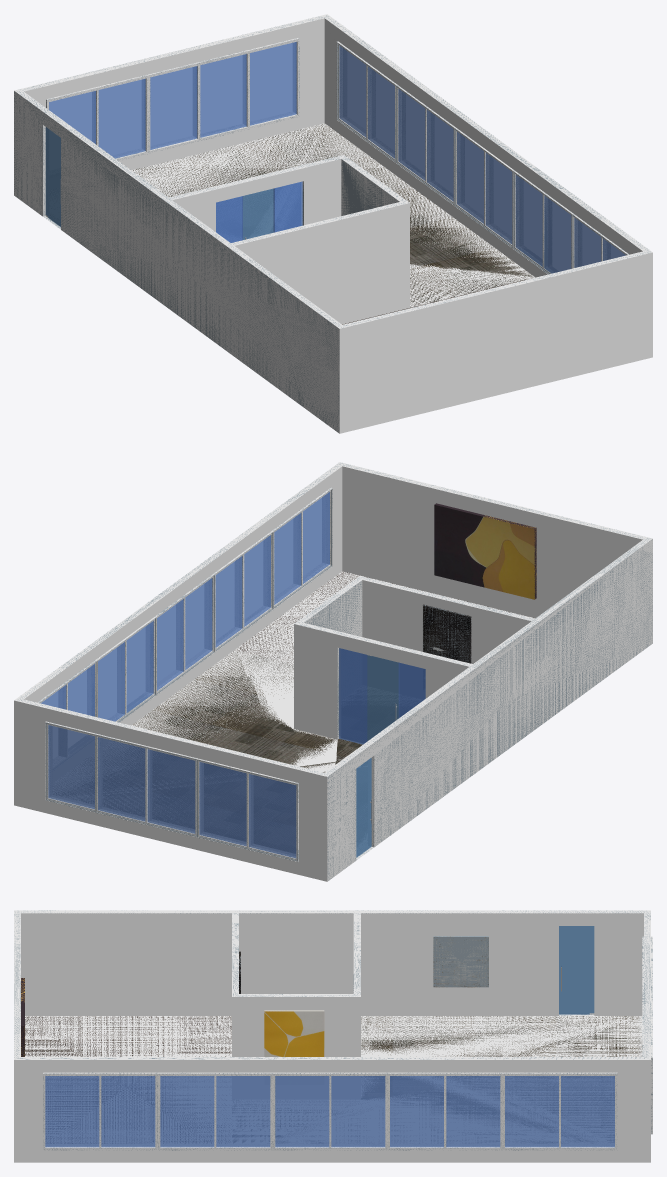
Rendered from RightSize_Sketchup.fbx.
3 renders of one model, top to bottom at view 1: azimuth 30°, elevation 25°; view 2: azimuth 150°, elevation 25°; view 3: azimuth 270°, elevation 25°, orthographic. The views are drawn at different scales.
Parts seen in each view (by area): view 1: Model, Component2, Component8, Component3, Component4, Component1, Component6, Component7, Group14, Group32, Component5; view 2: Model, Group18, Component7, Component3, Component4, Component_2_1, Component5, Group32, Component8, Component1, Component6, Group14 (+1 smaller); view 3: Model, Group14, Group17, Group35, Component3, Component8, Component4, Component5, Component2.
Boxes of the visible parts, x1,y1,x2,y2 form: Model: [14, 14, 652, 433]; Component2: [336, 41, 396, 162]; Component8: [395, 84, 455, 205]; Component3: [454, 127, 513, 248]; Component4: [512, 170, 572, 274]; Component1: [198, 37, 299, 141]; Component6: [148, 50, 249, 153]; Component7: [46, 74, 148, 160]; Group14: [45, 127, 60, 226]; Group32: [243, 188, 273, 239]; Component5: [571, 213, 628, 268]; Model: [14, 462, 652, 881]; Group18: [434, 503, 536, 599]; Component7: [196, 758, 298, 862]; Component3: [155, 573, 215, 695]; Component4: [214, 530, 273, 652]; Component_2_1: [422, 604, 471, 663]; Component5: [273, 487, 332, 609]; Group32: [367, 655, 398, 741]; Component8: [96, 616, 156, 722]; Component1: [45, 721, 147, 825]; Component6: [95, 734, 197, 837]; Group14: [356, 758, 371, 857]; Model: [14, 910, 650, 1162]; Group14: [559, 926, 594, 1014]; Group17: [433, 936, 488, 987]; Group35: [264, 1010, 324, 1056]; Component3: [272, 1072, 387, 1150]; Component8: [387, 1072, 502, 1150]; Component4: [158, 1072, 272, 1150]; Component5: [43, 1072, 157, 1150]; Component2: [502, 1072, 617, 1150].
Bounding box in the file's own units: 302 × 96.28 × 542.
